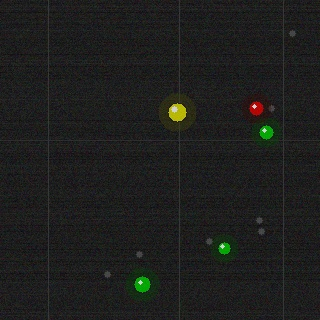green_normal: (132, 274, 152, 294), (257, 123, 275, 141), (216, 240, 232, 256)
red_fault: (247, 99, 265, 117)
yellow_warning: (166, 101, 188, 123)
